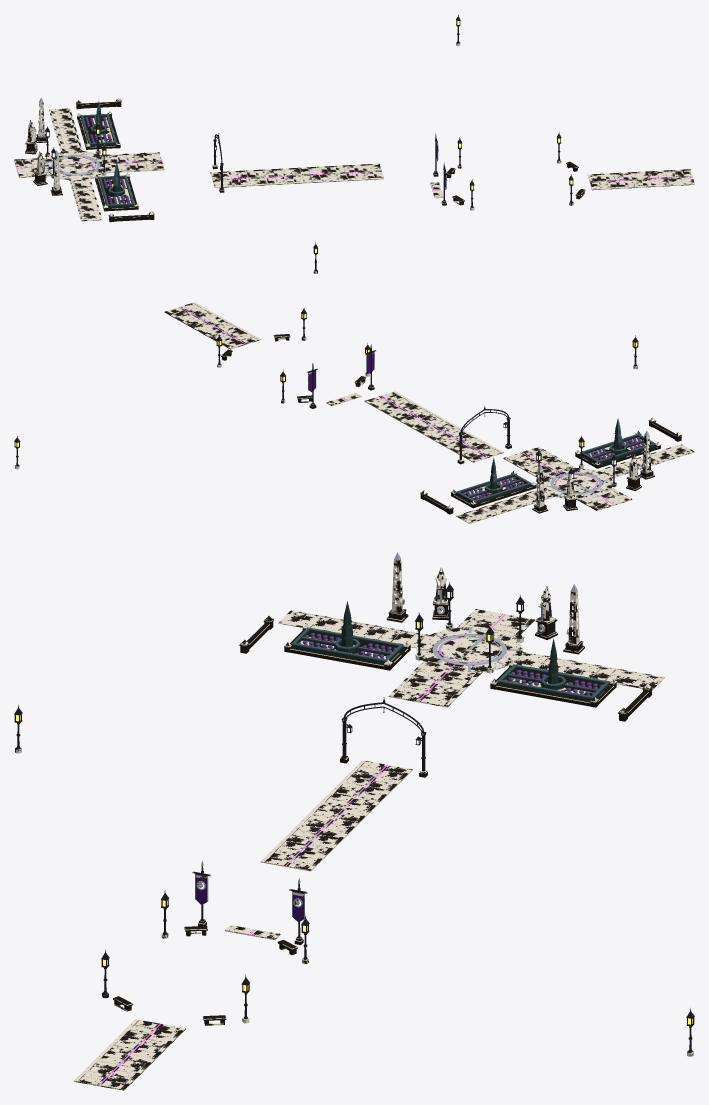
Rendered from ILHA3_09_PROPS_f6fdb3.fbx.
The picture shows the model from 3 angles, top to bottom: view 1: azimuth 30°, elevation 25°; view 2: azimuth 150°, elevation 25°; view 3: azimuth 270°, elevation 25°; orthographic projection. The views are drawn at different scales.
Parts seen in each view (by area): view 1: SG_Prop_NobleAxis_P2P3__Stone_SG_MarbleBlack, SG_Prop_NobleAxis_P2P3__Stone_SG_Obsidian, SG_Prop_Court__Stone_SG_Obsidian, SG_Prop_NobleAxis_P2P3__Stone_SG_Floor, SG_Prop_NobleAxis_P1__Stone_SG_MarbleBlack, SG_Prop_NobleAxis_P1__Stone_SG_Obsidian, SG_Prop_Court__Leaf_SG_Pine, SG_Prop_Court__Leaf_SGVegMoon, SG_Prop_Court__Dirt_SG, SG_Prop_NobleAxis_P2P3__Metal_SG_Silver, SG_Prop_Court__Leaf_SGPropBloom, SG_Prop_NobleAxis_P2P3__Stone_SG_Trim; view 2: SG_Prop_NobleAxis_P2P3__Stone_SG_MarbleBlack, SG_Prop_NobleAxis_P2P3__Stone_SG_Obsidian, SG_Prop_Court__Stone_SG_Obsidian, SG_Prop_NobleAxis_P2P3__Stone_SG_Floor, SG_Prop_NobleAxis_P1__Stone_SG_MarbleBlack, SG_Prop_Court__Leaf_SG_Pine, SG_Prop_Court__Leaf_SGVegMoon, SG_Prop_NobleAxis_P1__Stone_SG_Obsidian, SG_Prop_Court__Leaf_SGPropBloom, SG_Prop_NobleAxis_P2P3__Metal_SG_Silver, SG_Prop_NobleAxis_P2P3__Stone_SG_Trim, SG_Prop_Court__Stone_SG_Trim (+2 smaller); view 3: SG_Prop_NobleAxis_P2P3__Stone_SG_MarbleBlack, SG_Prop_NobleAxis_P2P3__Stone_SG_Obsidian, SG_Prop_Court__Stone_SG_Obsidian, SG_Prop_NobleAxis_P2P3__Stone_SG_Floor, SG_Prop_NobleAxis_P1__Stone_SG_MarbleBlack, SG_Prop_Court__Leaf_SG_Pine, SG_Prop_NobleAxis_P1__Stone_SG_Obsidian, SG_Prop_Court__Leaf_SGVegMoon, SG_Prop_NobleAxis_P2P3__Metal_SG_Silver, SG_Prop_Court__Leaf_SGPropBloom, SG_Prop_NobleAxis_P2P3__Stone_SG_Trim, SG_Prop_GateArch__Metal_SG_BlackIron.
Part boxes in pixels (bbox=[...]): SG_Prop_NobleAxis_P2P3__Stone_SG_MarbleBlack: bbox=[14, 153, 383, 186]; SG_Prop_NobleAxis_P2P3__Stone_SG_Obsidian: bbox=[14, 110, 383, 215]; SG_Prop_Court__Stone_SG_Obsidian: bbox=[25, 98, 154, 218]; SG_Prop_NobleAxis_P2P3__Stone_SG_Floor: bbox=[51, 109, 102, 221]; SG_Prop_NobleAxis_P1__Stone_SG_MarbleBlack: bbox=[431, 170, 694, 202]; SG_Prop_NobleAxis_P1__Stone_SG_Obsidian: bbox=[430, 141, 694, 205]; SG_Prop_Court__Leaf_SG_Pine: bbox=[81, 103, 134, 207]; SG_Prop_Court__Leaf_SGVegMoon: bbox=[81, 101, 134, 205]; SG_Prop_Court__Dirt_SG: bbox=[80, 117, 131, 204]; SG_Prop_NobleAxis_P2P3__Metal_SG_Silver: bbox=[46, 152, 347, 184]; SG_Prop_Court__Leaf_SGPropBloom: bbox=[85, 117, 129, 204]; SG_Prop_NobleAxis_P2P3__Stone_SG_Trim: bbox=[49, 108, 102, 221]; SG_Prop_NobleAxis_P2P3__Stone_SG_MarbleBlack: bbox=[367, 392, 629, 509]; SG_Prop_NobleAxis_P2P3__Stone_SG_Obsidian: bbox=[364, 391, 682, 521]; SG_Prop_Court__Stone_SG_Obsidian: bbox=[420, 417, 681, 513]; SG_Prop_NobleAxis_P2P3__Stone_SG_Floor: bbox=[457, 445, 693, 523]; SG_Prop_NobleAxis_P1__Stone_SG_MarbleBlack: bbox=[167, 303, 373, 405]; SG_Prop_Court__Leaf_SG_Pine: bbox=[456, 419, 655, 502]; SG_Prop_Court__Leaf_SGVegMoon: bbox=[456, 418, 655, 501]; SG_Prop_NobleAxis_P1__Stone_SG_Obsidian: bbox=[164, 302, 374, 408]; SG_Prop_Court__Leaf_SGPropBloom: bbox=[462, 437, 643, 500]; SG_Prop_NobleAxis_P2P3__Metal_SG_Silver: bbox=[390, 405, 608, 496]; SG_Prop_NobleAxis_P2P3__Stone_SG_Trim: bbox=[456, 444, 694, 523]; SG_Prop_Court__Stone_SG_Trim: bbox=[533, 454, 653, 508]; SG_Prop_NobleAxis_P2P3__Stone_SG_MarbleBlack: bbox=[265, 610, 529, 869]; SG_Prop_NobleAxis_P2P3__Stone_SG_Obsidian: bbox=[260, 609, 655, 871]; SG_Prop_Court__Stone_SG_Obsidian: bbox=[239, 559, 652, 714]; SG_Prop_NobleAxis_P2P3__Stone_SG_Floor: bbox=[278, 611, 664, 688]; SG_Prop_NobleAxis_P1__Stone_SG_MarbleBlack: bbox=[78, 919, 302, 1088]; SG_Prop_Court__Leaf_SG_Pine: bbox=[291, 601, 609, 700]; SG_Prop_NobleAxis_P1__Stone_SG_Obsidian: bbox=[73, 875, 304, 1090]; SG_Prop_Court__Leaf_SGVegMoon: bbox=[291, 627, 609, 698]; SG_Prop_NobleAxis_P2P3__Metal_SG_Silver: bbox=[287, 627, 521, 848]; SG_Prop_Court__Leaf_SGPropBloom: bbox=[297, 633, 602, 695]; SG_Prop_NobleAxis_P2P3__Stone_SG_Trim: bbox=[278, 610, 664, 690]; SG_Prop_GateArch__Metal_SG_BlackIron: bbox=[341, 698, 426, 771].
Size of the model in its own units: 215 by 32.1 by 149.
12 materials, 3 textured.
